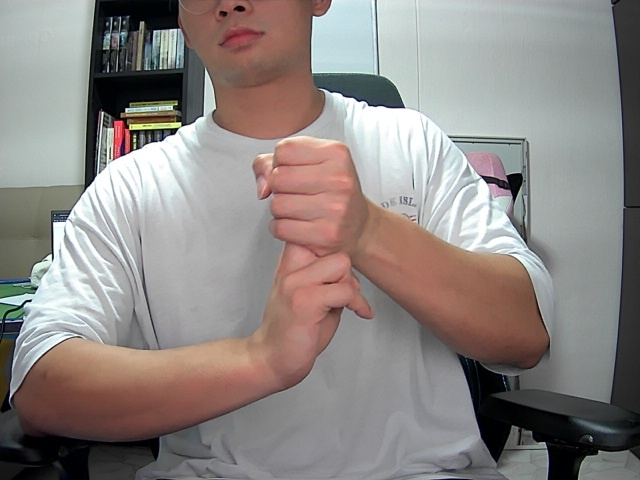Rat: (232, 126, 382, 406)
